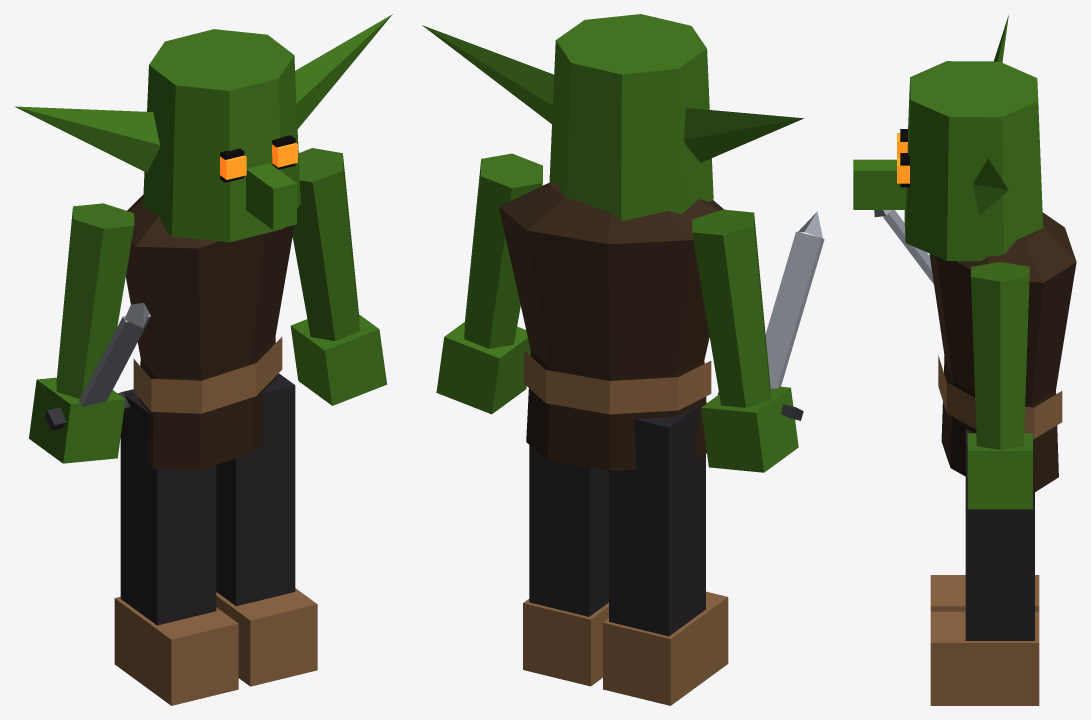
File: goblin.glb
The picture shows the model from 3 angles, left to right: view 1: azimuth 30°, elevation 25°; view 2: azimuth 150°, elevation 25°; view 3: azimuth 270°, elevation 25°; orthographic projection. The views are drawn at different scales.
Visible parts, largest first — view 1: goblin_head, goblin_torso, goblin_leg_r, goblin_leg_l, goblin_arm_r, goblin_arm_l, goblin_dagger; view 2: goblin_torso, goblin_head, goblin_leg_r, goblin_leg_l, goblin_arm_r, goblin_arm_l, goblin_dagger; view 3: goblin_head, goblin_leg_l, goblin_torso, goblin_arm_l, goblin_leg_r, goblin_dagger.
Boxes of the visible parts, <box> form: goblin_head: <box>14,14,392,242</box>; goblin_torso: <box>126,194,297,470</box>; goblin_leg_r: <box>114,389,238,705</box>; goblin_leg_l: <box>216,373,317,686</box>; goblin_arm_r: <box>29,203,134,463</box>; goblin_arm_l: <box>290,148,386,405</box>; goblin_dagger: <box>44,303,150,430</box>; goblin_torso: <box>499,181,723,470</box>; goblin_head: <box>422,14,803,220</box>; goblin_leg_r: <box>603,406,728,705</box>; goblin_leg_l: <box>523,393,608,686</box>; goblin_arm_r: <box>692,209,798,472</box>; goblin_arm_l: <box>436,153,542,414</box>; goblin_dagger: <box>717,211,824,420</box>; goblin_head: <box>853,14,1043,261</box>; goblin_leg_l: <box>930,428,1039,705</box>; goblin_torso: <box>929,212,1076,493</box>; goblin_arm_l: <box>967,262,1032,509</box>; goblin_leg_r: <box>930,575,1039,611</box>; goblin_dagger: <box>874,210,933,284</box>.
Size of the model in its own units: 0.768 by 1.18 by 0.4109.
